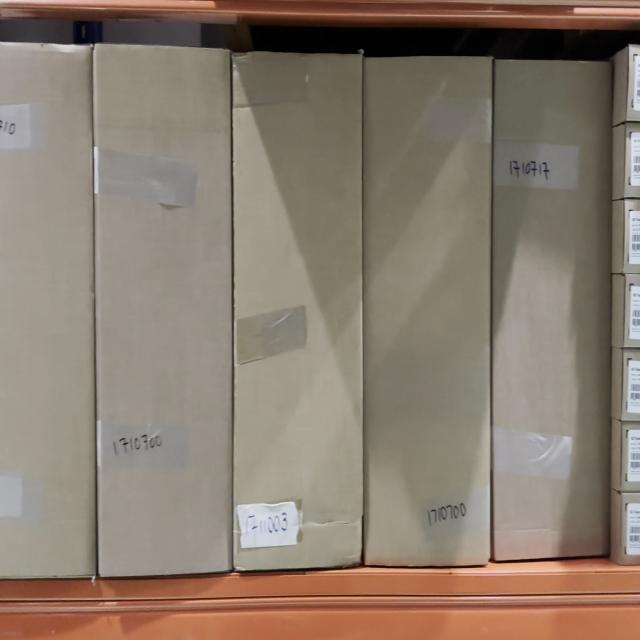box: (97, 46, 229, 570), (235, 54, 364, 564), (364, 55, 492, 562), (496, 66, 612, 555)
